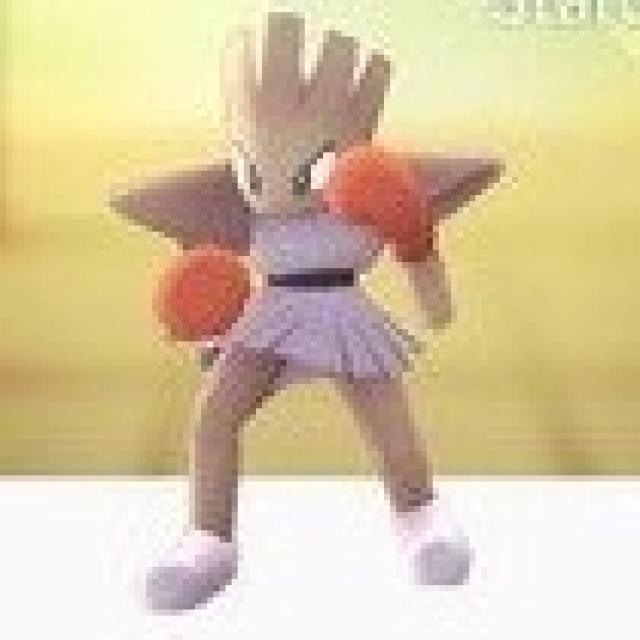Hitmonchan: (103, 4, 510, 619)
